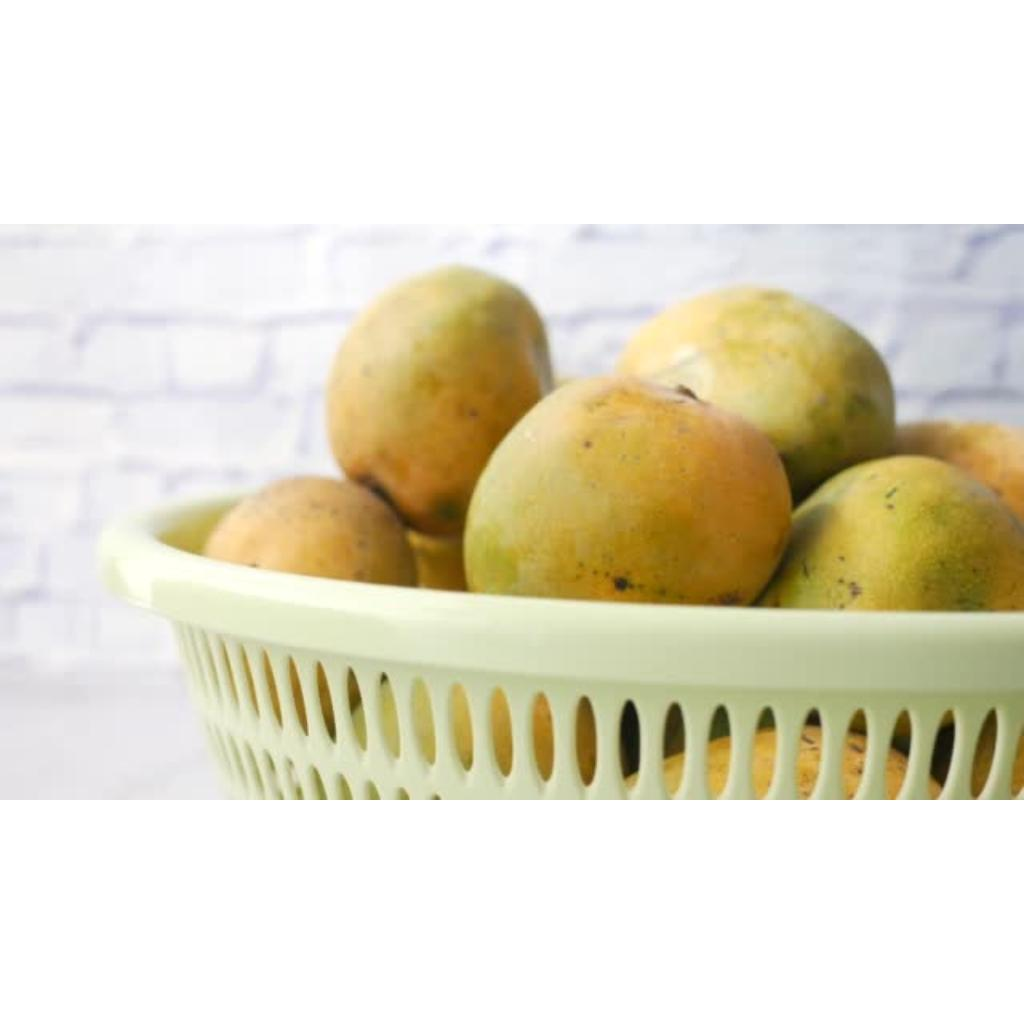mango: (464, 378, 790, 604), (326, 266, 552, 534), (618, 286, 894, 499), (760, 456, 1024, 609), (204, 476, 416, 585)
